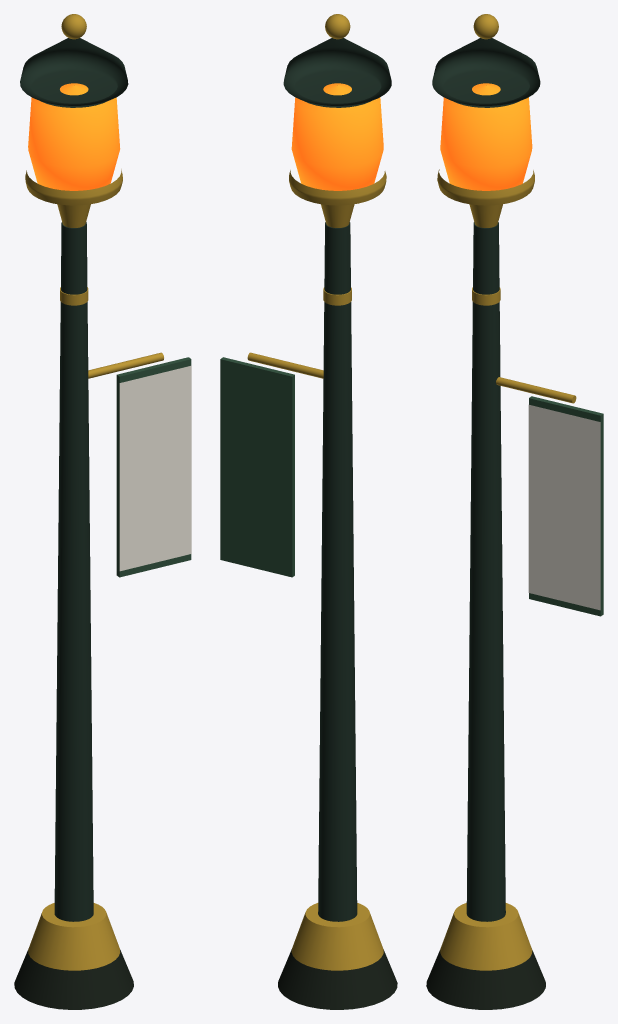
File: street-lamp.glb
The picture shows the model from 3 angles, left to right: view 1: azimuth 30°, elevation 25°; view 2: azimuth 150°, elevation 25°; view 3: azimuth 330°, elevation 25°; orthographic projection.
Visible parts, largest first — view 1: pole, banner_slot, lantern_glass, lantern_cap, base_plinth, base_collar, banner_slot_backer, lantern_cage, banner_arm, lantern_neck, finial; view 2: pole, banner_slot_backer, lantern_glass, lantern_cap, base_plinth, base_collar, lantern_cage, banner_arm, lantern_neck, finial; view 3: pole, banner_slot, lantern_glass, lantern_cap, base_plinth, base_collar, banner_slot_backer, lantern_cage, banner_arm, lantern_neck, finial.
Part boxes in pixels (x1,y1,x2,y2): pole: (54,222,93,921); banner_slot: (119,365,191,571); lantern_glass: (28,83,120,190); lantern_cap: (20,38,128,107); base_plinth: (14,949,133,1009); base_collar: (28,903,120,970); banner_slot_backer: (116,357,191,577); lantern_cage: (25,169,122,205); banner_arm: (88,352,163,378); lantern_neck: (57,204,90,227); finial: (61,14,86,39); pole: (318,222,357,921); banner_slot_backer: (220,357,294,577); lantern_glass: (291,83,383,190); lantern_cap: (283,38,391,107); base_plinth: (278,949,397,1009); base_collar: (291,903,383,970); lantern_cage: (289,170,386,205); banner_arm: (247,352,323,378); lantern_neck: (321,204,354,227); finial: (325,14,350,39); pole: (466,222,505,921); banner_slot: (528,405,600,610); lantern_glass: (440,83,532,190); lantern_cap: (432,38,540,107); base_plinth: (426,950,545,1009); base_collar: (440,903,532,970); banner_slot_backer: (529,396,603,616); lantern_cage: (437,169,534,205); banner_arm: (496,377,576,403); lantern_neck: (469,204,502,227); finial: (473,14,498,39).
Size of the model in its own units: 0.84 by 4.63 by 0.52.
